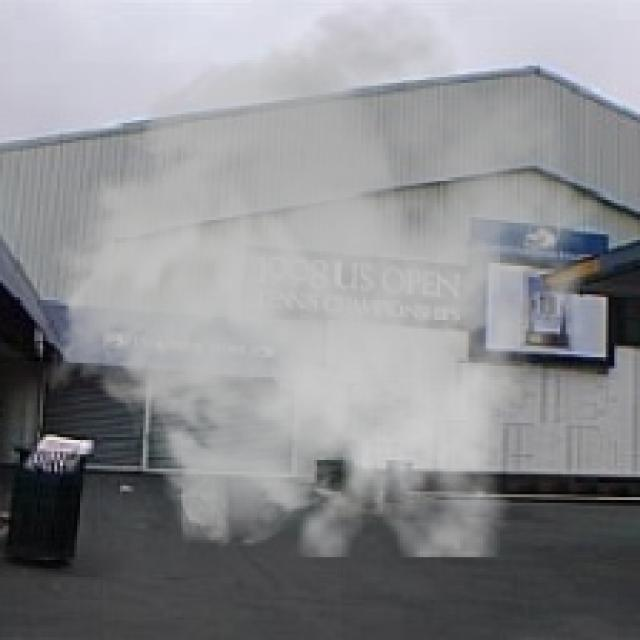Smoke: (40, 0, 606, 557)
